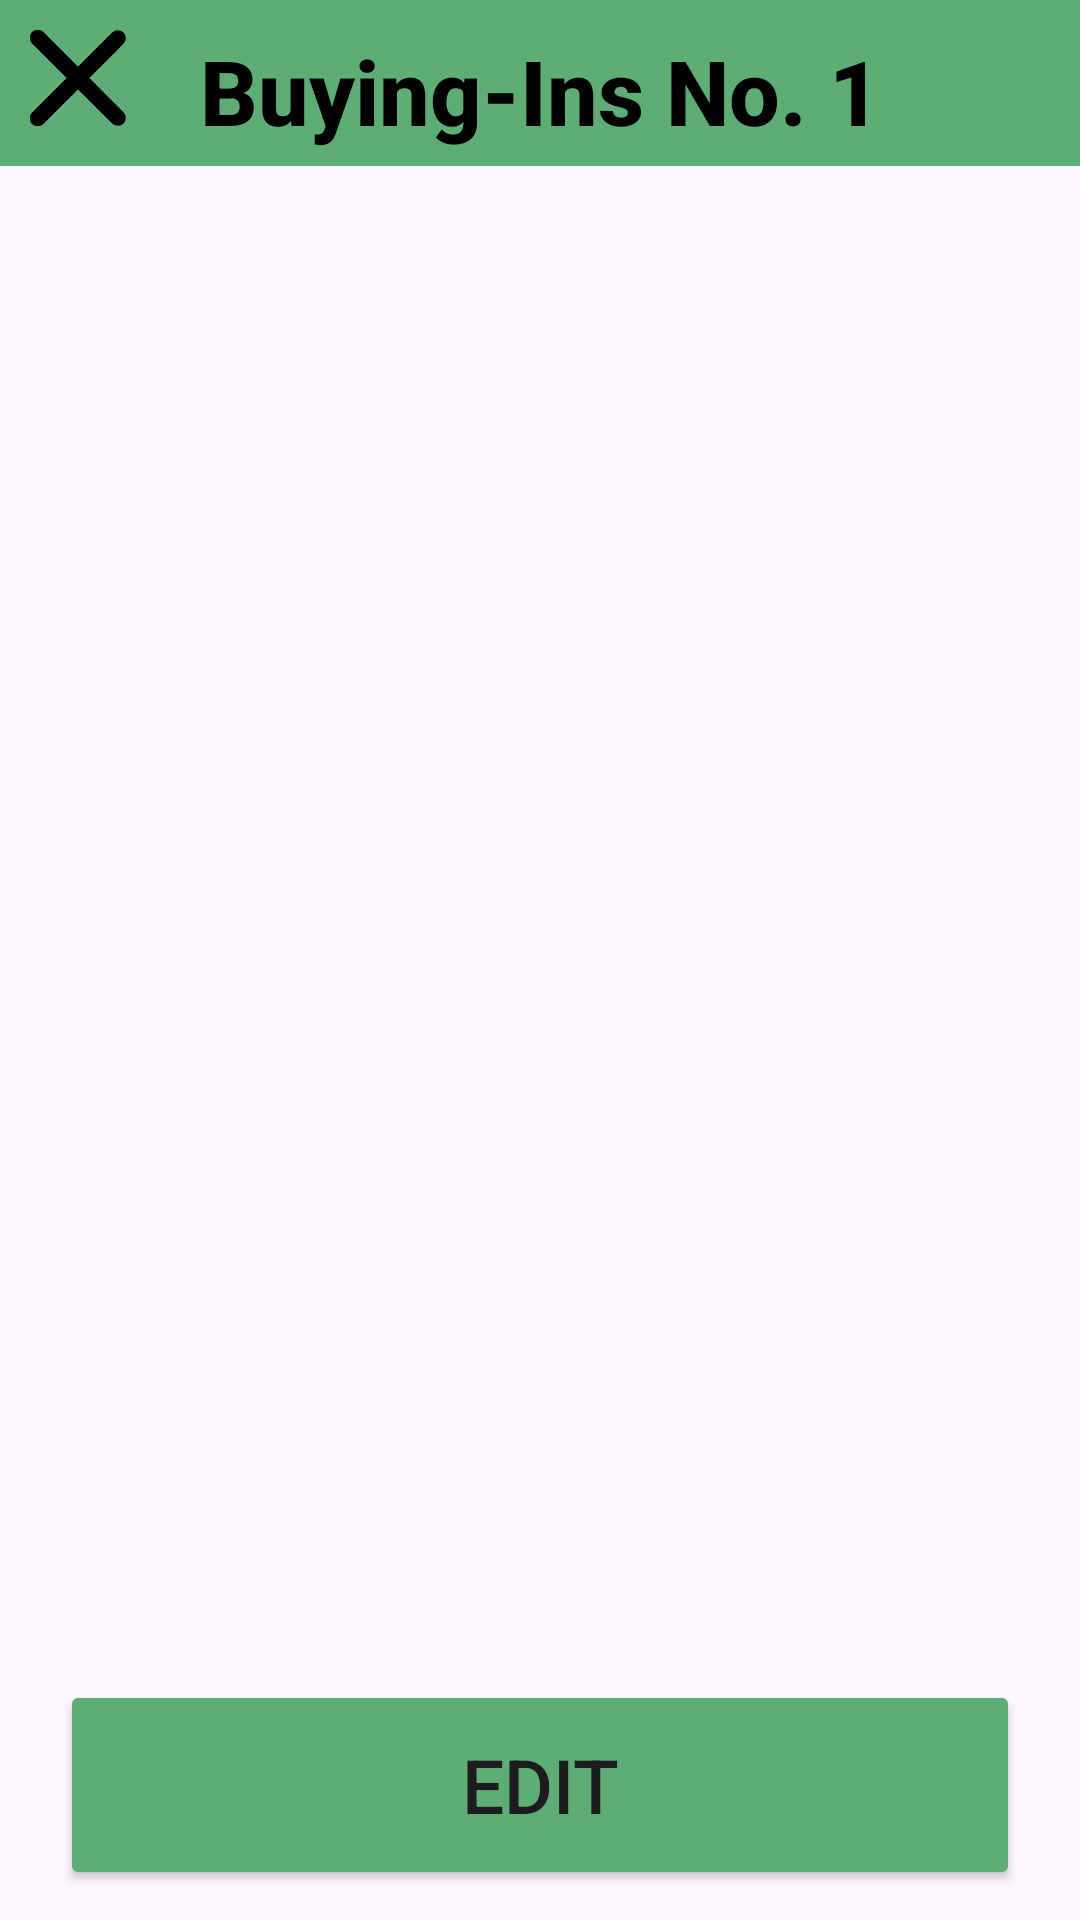

Where icons sit on this 1080×1920 app screen, as {"x1": x1, "y1": y1, "x2": x2, "y2": y2}:
close: {"x1": 30, "y1": 30, "x2": 126, "y2": 126}
